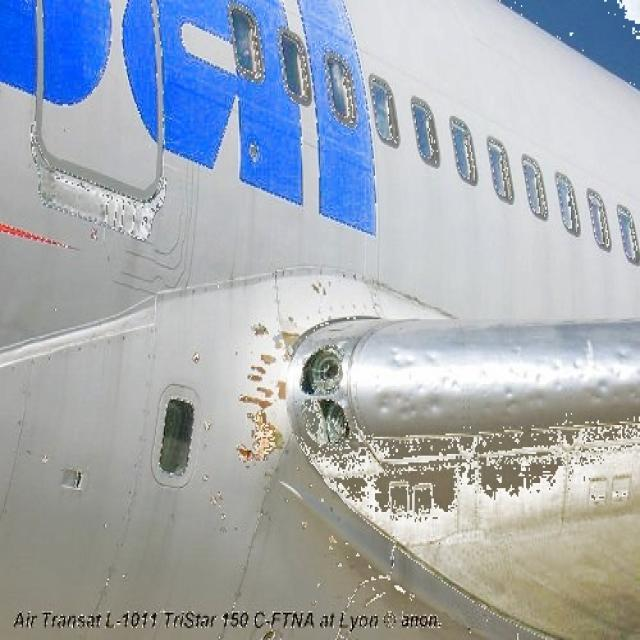dent: (372, 344, 640, 423)
